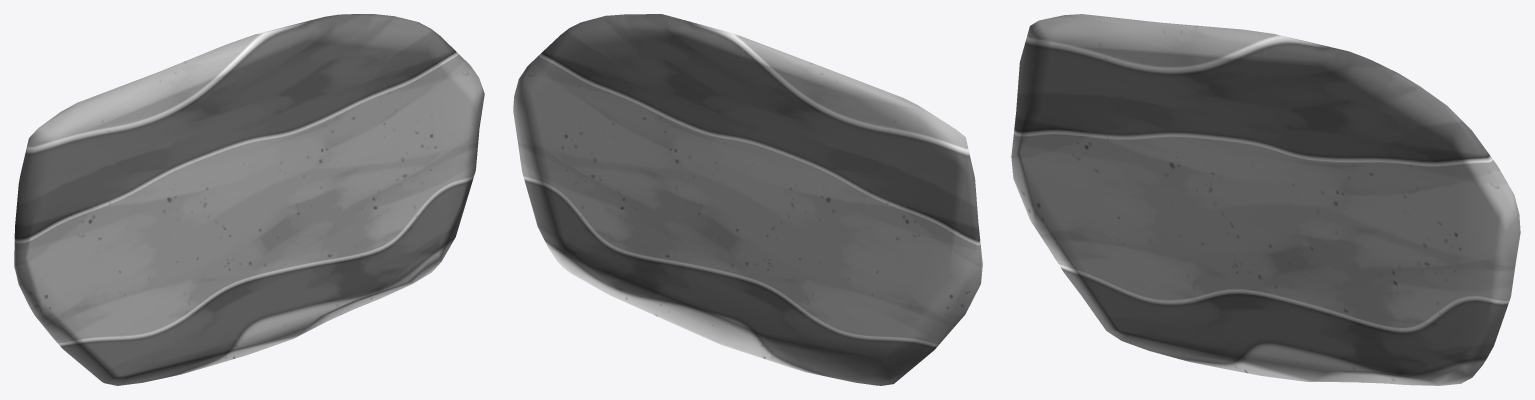
Rendered from SM_UI_BGMoveBoard_Tuto_B1.fbx.
3 views of the same model, side by side, from view 1: azimuth 30°, elevation 25°; view 2: azimuth 150°, elevation 25°; view 3: azimuth 330°, elevation 25° (orthographic). The views are drawn at different scales.
Visible parts, largest first — view 1: SM_UI_BGMoveBoard_Tuto_B1; view 2: SM_UI_BGMoveBoard_Tuto_B1; view 3: SM_UI_BGMoveBoard_Tuto_B1.
Boxes of the visible parts, <box> form: SM_UI_BGMoveBoard_Tuto_B1: <box>14,14,484,385</box>; SM_UI_BGMoveBoard_Tuto_B1: <box>513,14,982,385</box>; SM_UI_BGMoveBoard_Tuto_B1: <box>1011,14,1520,385</box>.
Size of the model in its own units: 97.07 by 63.75 by 2.58.
